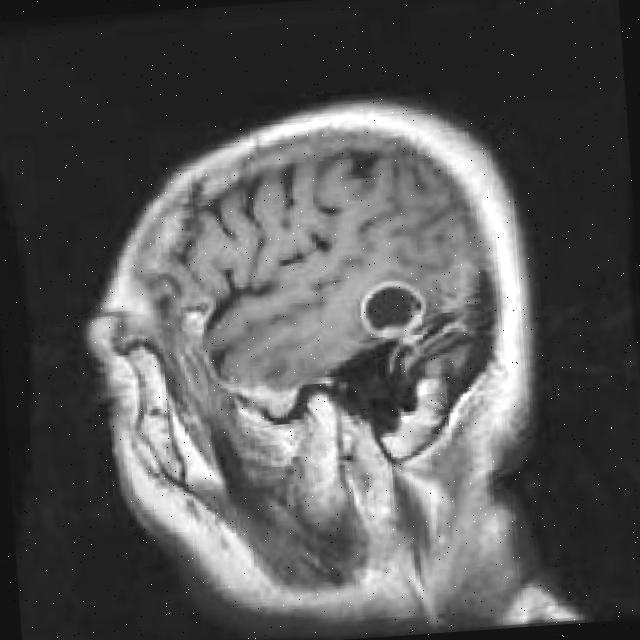EMCI: (348, 268, 458, 359)
